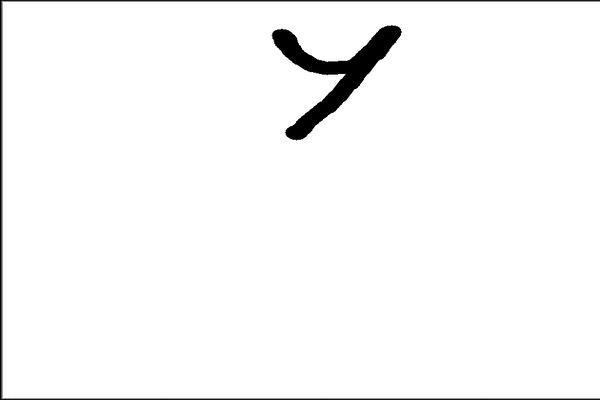Y: (266, 24, 409, 148)
